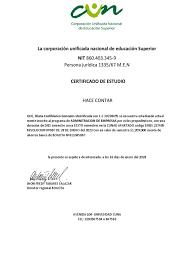certificado: (0, 0, 192, 258)
institucion: (59, 0, 136, 34)
